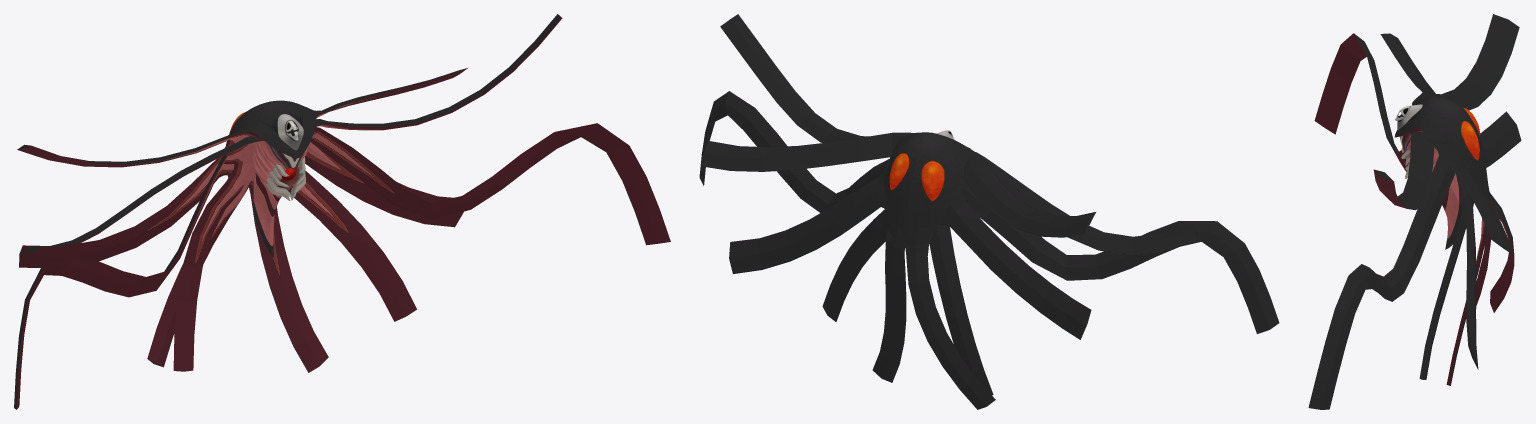
The model's file is zeruel_pt2.glb.
3 renders of one model, left to right at view 1: azimuth 30°, elevation 25°; view 2: azimuth 150°, elevation 25°; view 3: azimuth 270°, elevation 25°, orthographic. The views are drawn at different scales.
Visible parts, largest first — view 1: Object_2, Object_3, Object_5; view 2: Object_2, Object_6; view 3: Object_2, Object_3, Object_6, Object_5.
Part boxes in pixels (box(x1,y1,x2,y2)): Object_2: box(14, 14, 670, 409); Object_3: box(252, 141, 307, 257); Object_5: box(277, 113, 303, 150); Object_2: box(699, 14, 1279, 409); Object_6: box(889, 153, 944, 201); Object_2: box(1308, 14, 1521, 409); Object_3: box(1400, 133, 1473, 249); Object_6: box(1461, 107, 1480, 160); Object_5: box(1395, 104, 1423, 130).
Bounding box in the file's own units: 206 × 101 × 62.38.
Materials: 5 (5 with a texture image).
